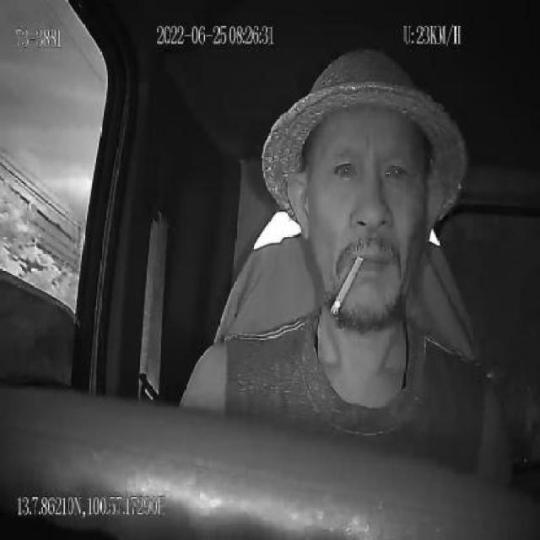smoking: (332, 254, 362, 315)
